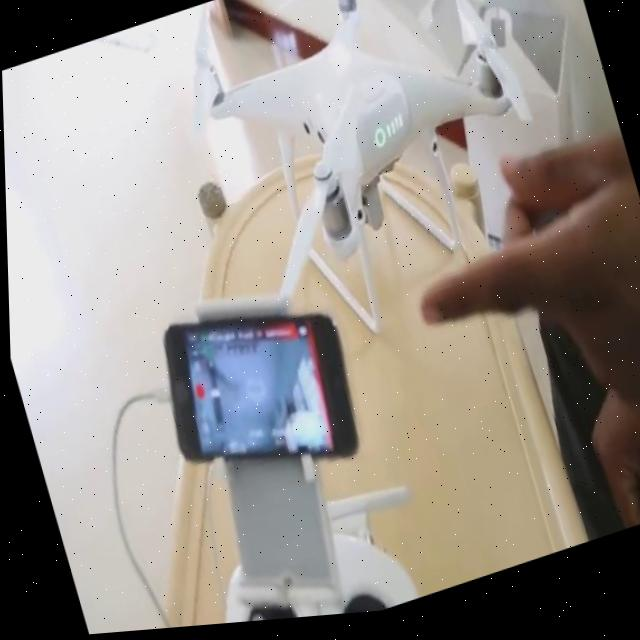drones: (129, 0, 589, 419)
